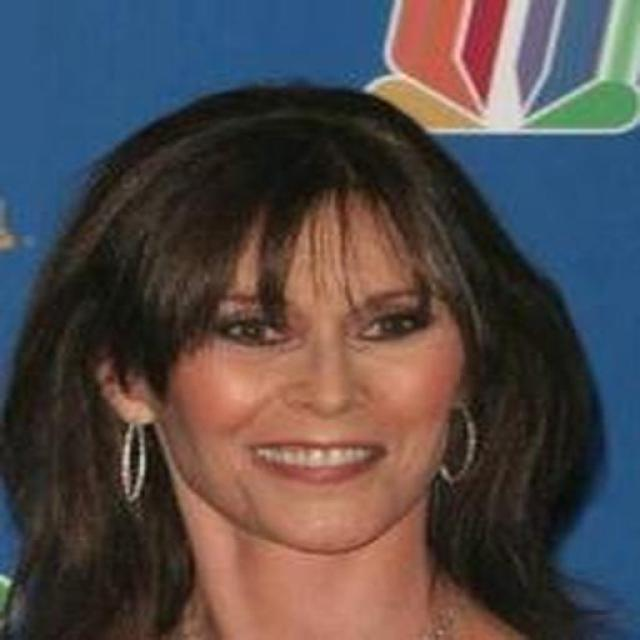bareface: (88, 93, 500, 540)
